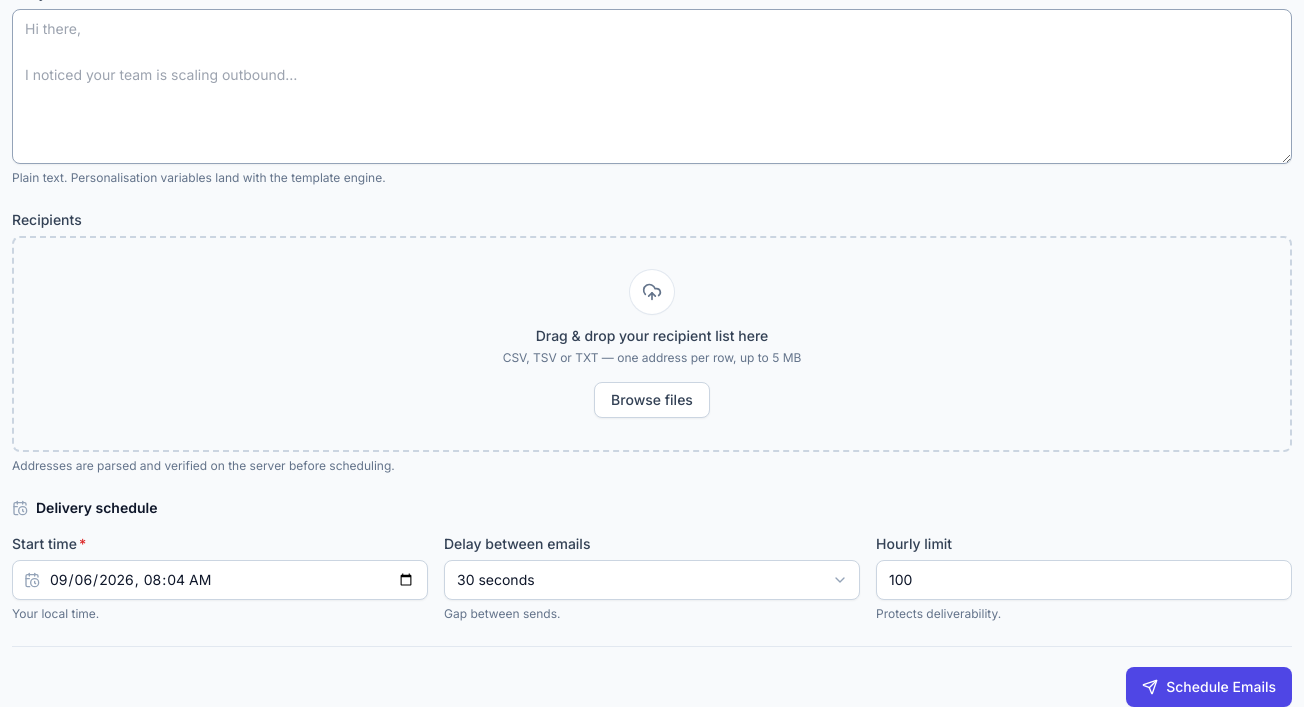
ComposeForm validation › blocks submission and names every missing field
(page scrolled)
Click the button "Schedule Emails": (1209, 686) [1126,666,1292,706]
(page scrolled)
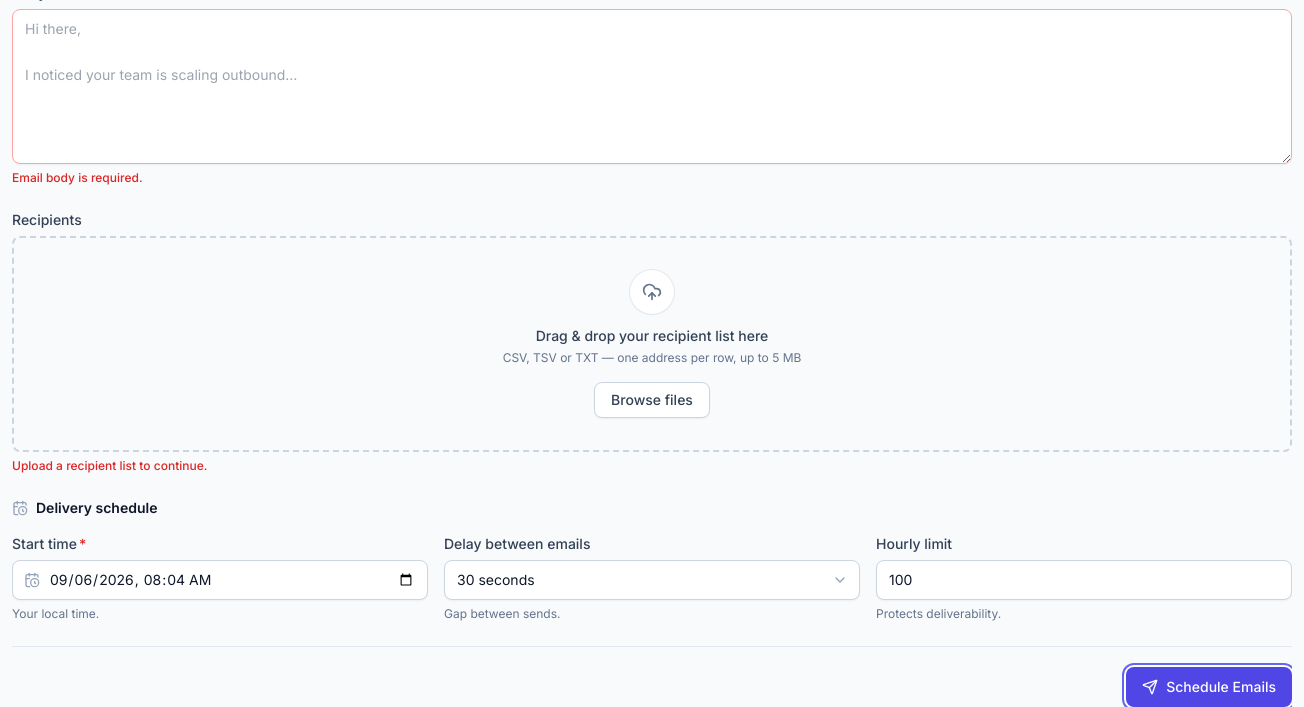
Result: the text "Email body is required." is shown at [12,170,142,184]
Result: the text "Upload a recipient list to continue." is shown at [12,458,207,472]
